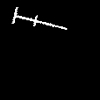double_crochet: (13, 7, 66, 29)
